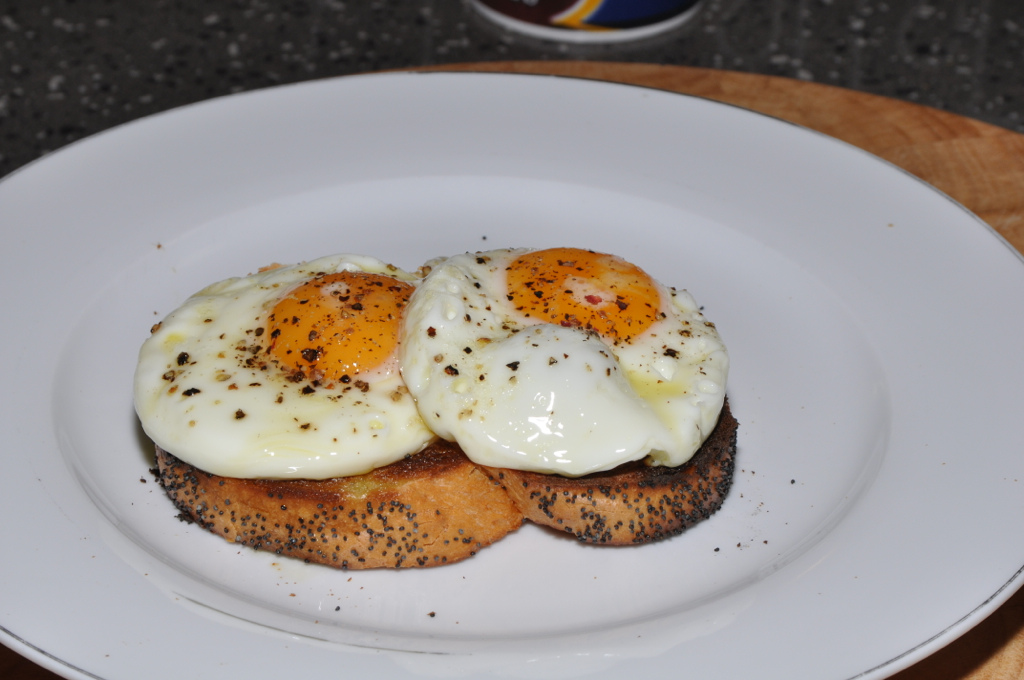fried egg: (433, 254, 721, 474), (135, 264, 419, 477)
slice of bread: (145, 446, 770, 566)
